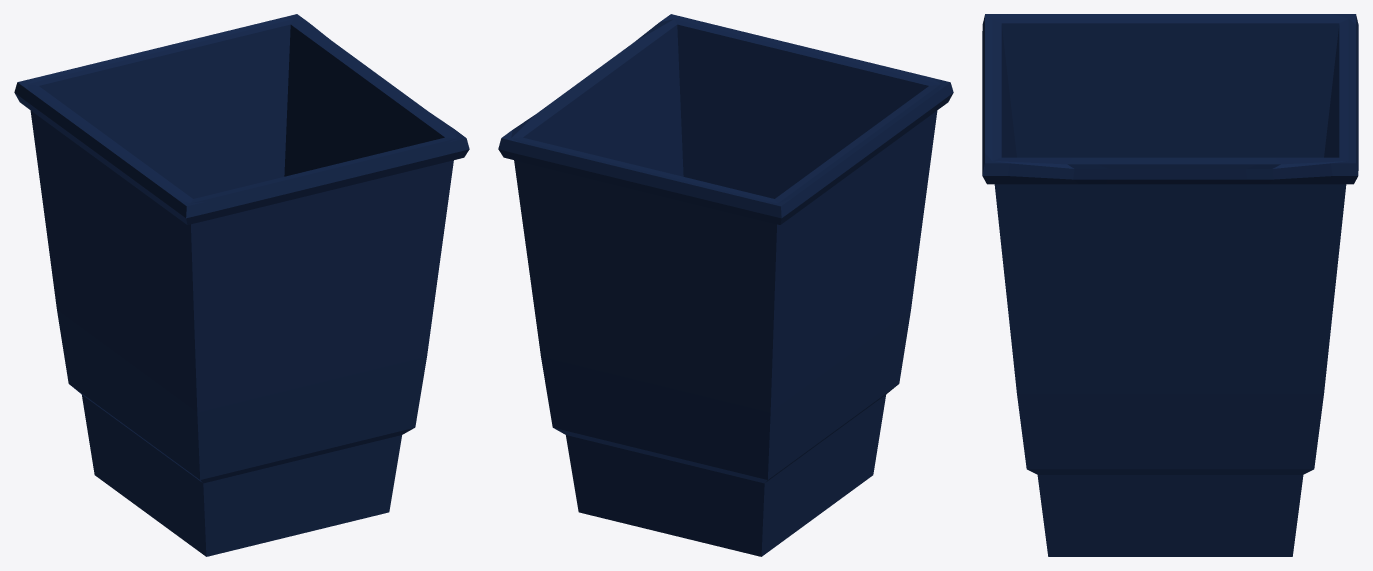
Rendered from trash_nolid.FBX.
The picture shows the model from 3 angles, left to right: view 1: azimuth 30°, elevation 25°; view 2: azimuth 150°, elevation 25°; view 3: azimuth 270°, elevation 25°; orthographic projection. The views are drawn at different scales.
Parts seen in each view (by area): view 1: Box001; view 2: Box001; view 3: Box001.
Boxes of the visible parts, x1,y1,x2,y2 form: Box001: (14,14,469,556); Box001: (498,14,953,556); Box001: (982,14,1358,556).
Size of the model in its own units: 38.22 by 49.39 by 40.14.
